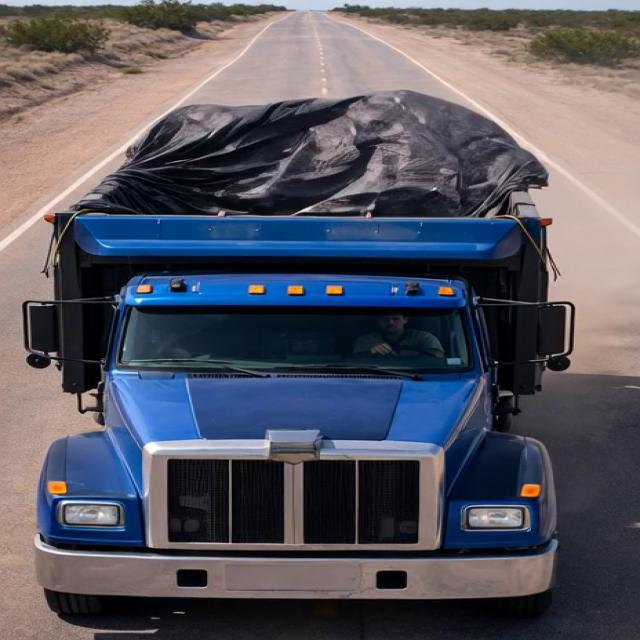trailer: (53, 85, 586, 268)
truck: (2, 58, 599, 614)
